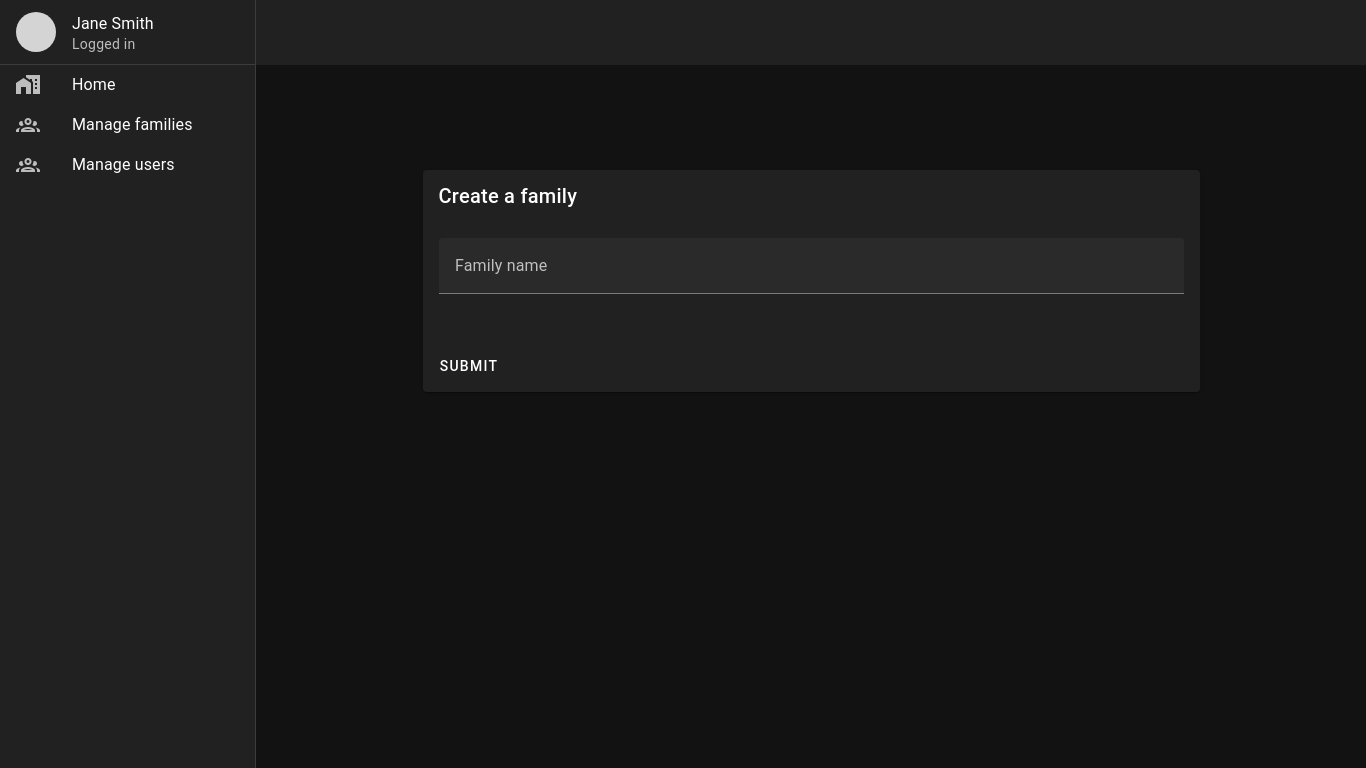
Test: Create a Family Page › should display a validation error for an empty family name
Click the submit button at (469, 366), box [431,348,507,384]
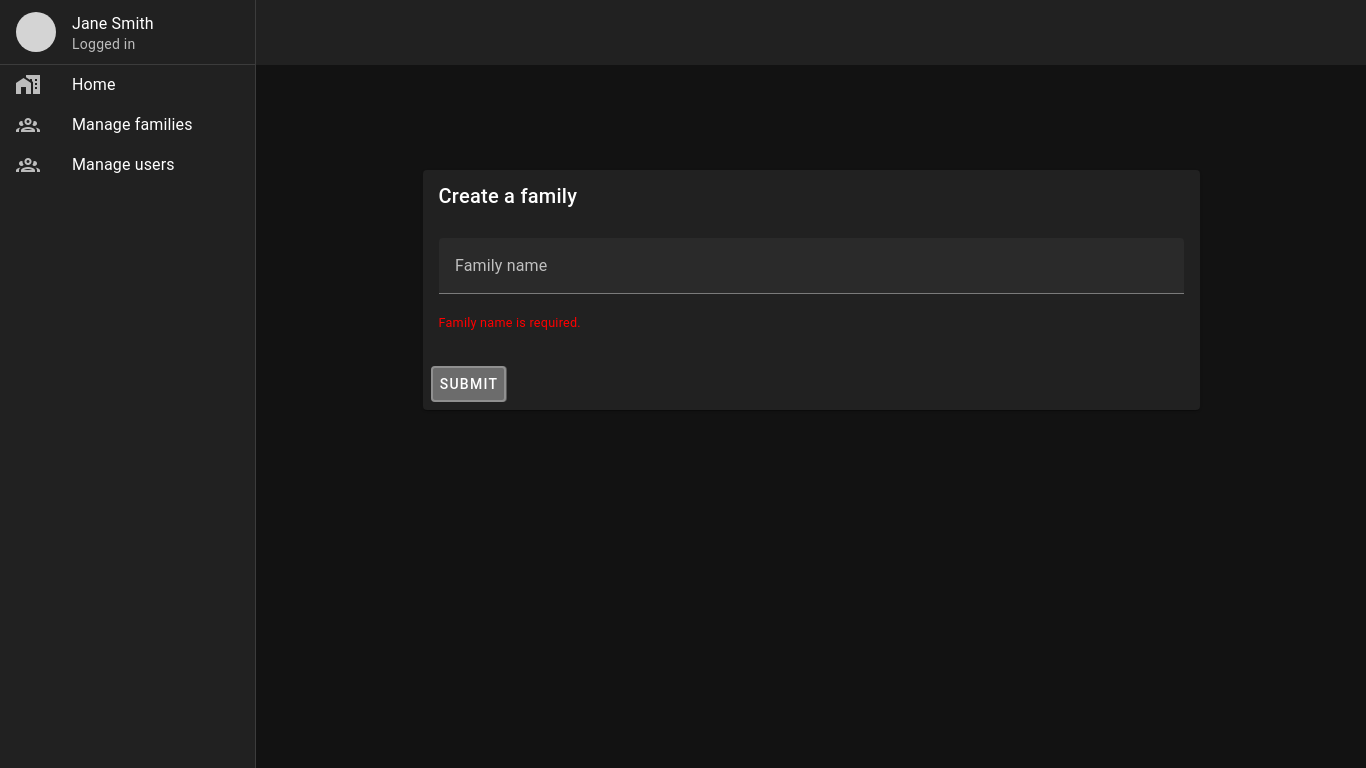
Check: the text with class "error" reads "Family name is required.", box [439,315,581,330]
